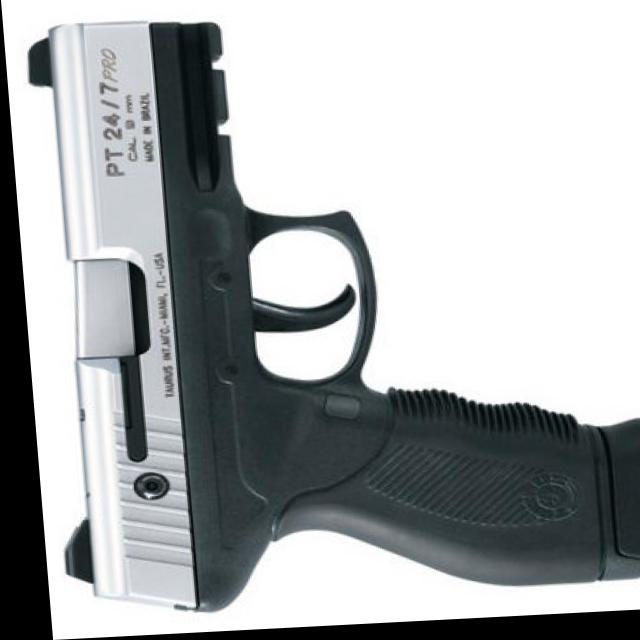handgun: (17, 6, 635, 618)
